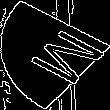M_SE: (8, 21, 102, 89)
